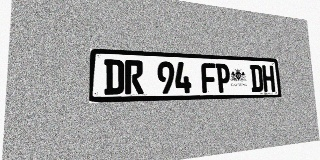4: (174, 62, 191, 93)
9: (157, 61, 175, 94)
D: (104, 59, 124, 95), (250, 65, 264, 92)
F: (201, 63, 217, 93)
H: (262, 65, 275, 92)
P: (216, 63, 231, 93)
R: (125, 60, 144, 94)
